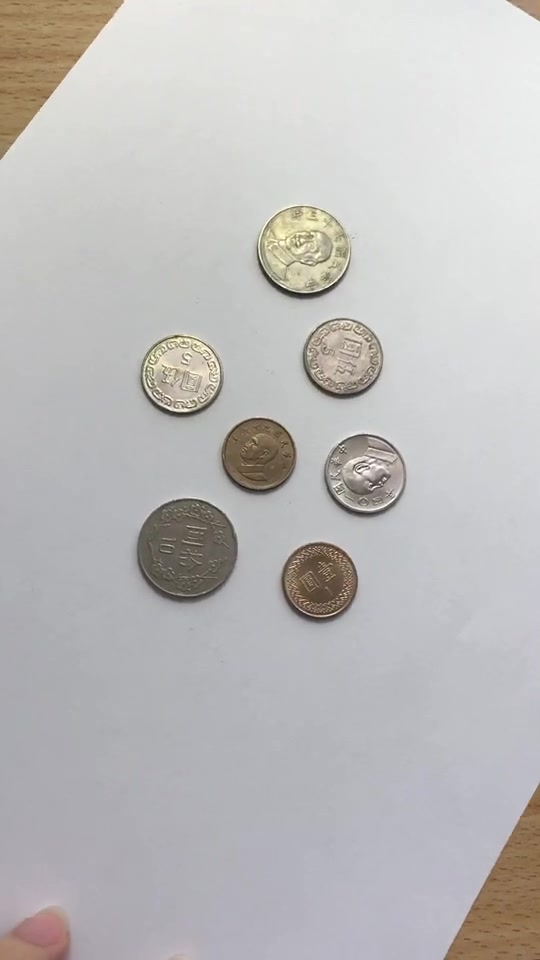1 dallar: (275, 537, 363, 623), (219, 413, 298, 496)
10 dallar: (244, 194, 366, 307), (123, 496, 245, 609)
5 dallar: (136, 324, 221, 422), (298, 312, 383, 410), (320, 423, 407, 518)
